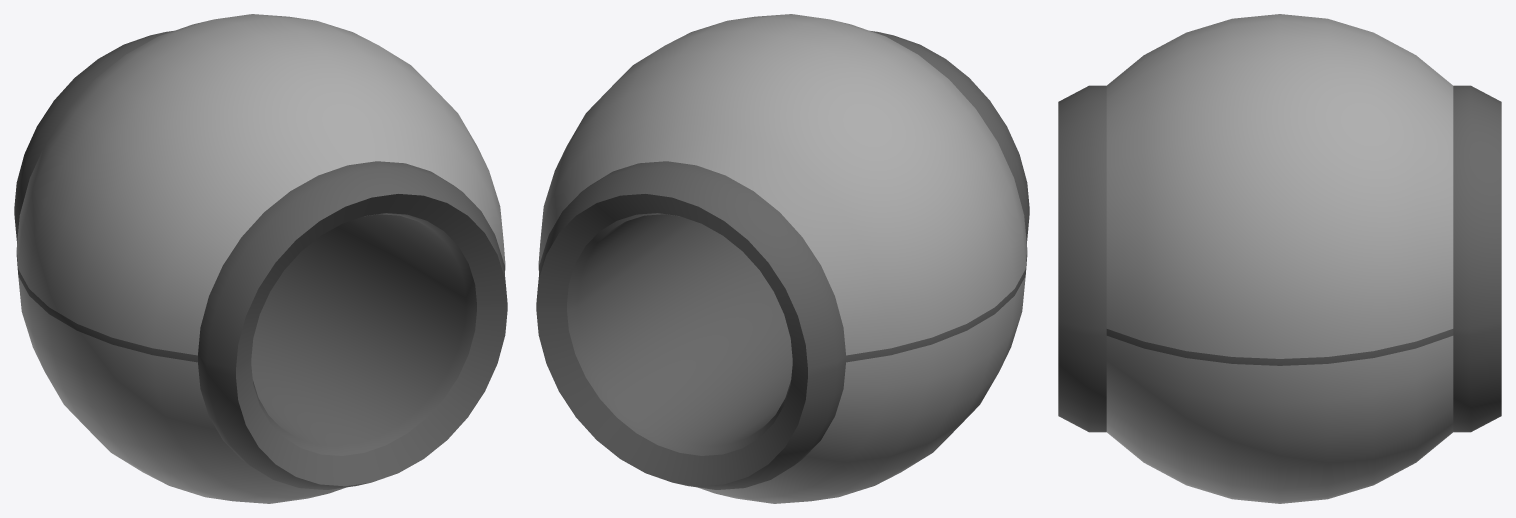
File: House Open.glb
The picture shows the model from 3 angles, left to right: view 1: azimuth 30°, elevation 25°; view 2: azimuth 150°, elevation 25°; view 3: azimuth 270°, elevation 25°; orthographic projection.
Visible parts, largest first — view 1: House_Open; view 2: House_Open; view 3: House_Open.
Boxes of the visible parts, x1=… form: House_Open: x1=14, y1=14, x2=507, y2=503; House_Open: x1=536, y1=14, x2=1029, y2=503; House_Open: x1=1058, y1=14, x2=1501, y2=503.
Size of the model in its own units: 3.99 by 4 by 3.61.
1 material, 1 textured.
